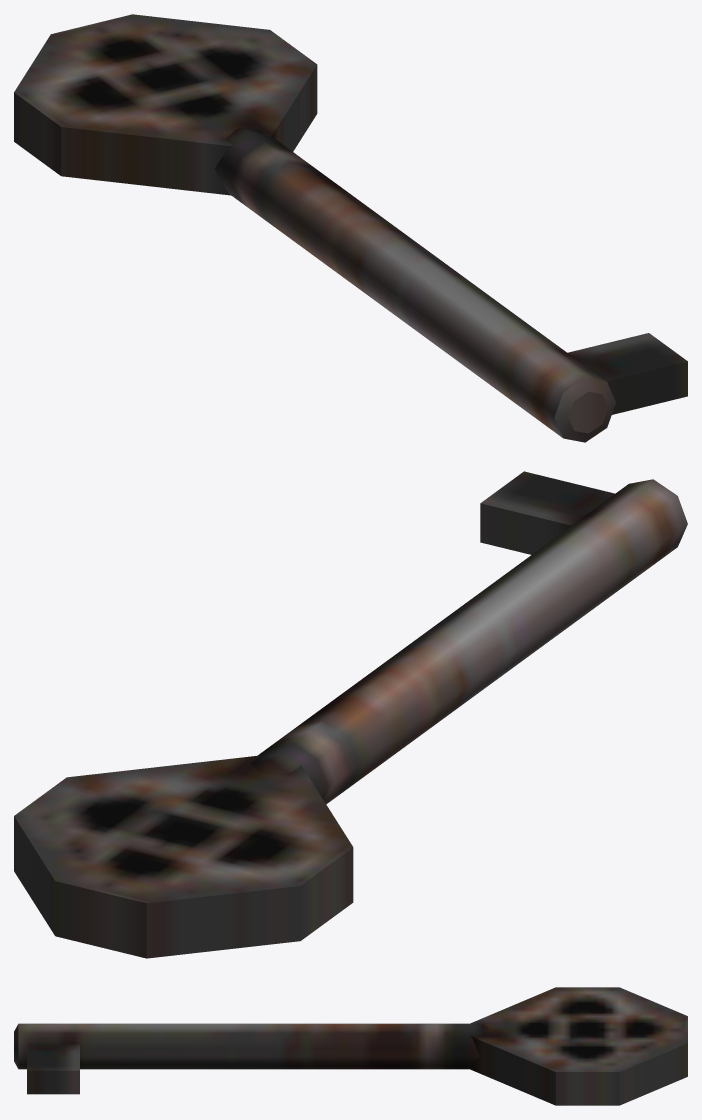
The model's file is key.fbx.
3 renders of one model, top to bottom at view 1: azimuth 30°, elevation 25°; view 2: azimuth 150°, elevation 25°; view 3: azimuth 270°, elevation 25°, orthographic. The views are drawn at different scales.
Visible parts, largest first — view 1: key; view 2: key; view 3: key.
Boxes of the visible parts, x1=… form: key: x1=14, y1=14, x2=687, y2=442; key: x1=14, y1=471, x2=687, y2=958; key: x1=14, y1=987, x2=687, y2=1105.
Bounding box in the file's own units: 59.5 × 14.4 × 200.
